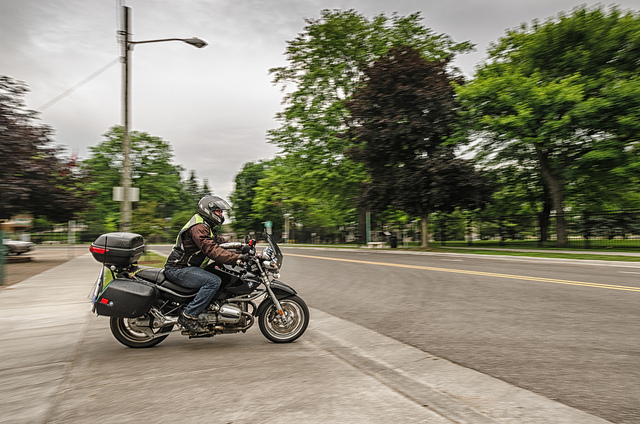Bike: (95, 204, 304, 345)
